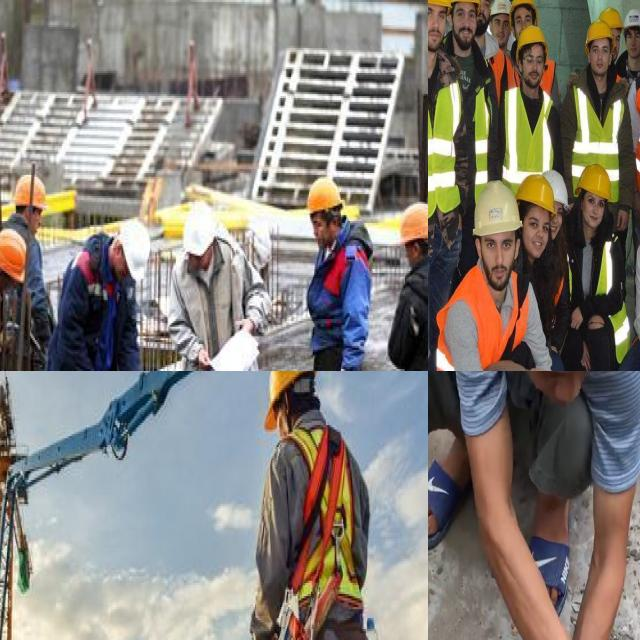Sandals: (428, 442, 468, 552)
face_nomask: (479, 232, 511, 282), (520, 206, 550, 258), (584, 40, 609, 83), (577, 190, 601, 233), (520, 48, 542, 91), (428, 7, 448, 54), (453, 3, 476, 43), (489, 13, 512, 41), (623, 27, 640, 59), (512, 12, 535, 34)
hand_noglove: (195, 348, 217, 371), (570, 305, 584, 339), (530, 360, 556, 371)
head_helmet: (263, 371, 315, 429), (473, 182, 522, 235), (118, 217, 152, 283), (184, 200, 218, 254), (517, 174, 558, 214), (0, 228, 31, 280), (302, 175, 343, 213), (397, 201, 428, 244), (578, 163, 613, 199), (12, 175, 48, 209), (514, 27, 549, 52), (545, 171, 571, 203), (584, 22, 614, 45), (598, 8, 621, 28), (622, 7, 640, 26), (511, 0, 535, 14), (490, 0, 511, 14)
person: (243, 371, 401, 640), (429, 181, 559, 371), (168, 194, 259, 371), (298, 172, 374, 371), (59, 215, 146, 371), (0, 163, 59, 371), (569, 165, 622, 371), (570, 18, 628, 188), (428, 0, 454, 371), (502, 29, 566, 170), (519, 166, 572, 326), (0, 230, 27, 371), (452, 0, 481, 107), (482, 0, 514, 74)
vest: (265, 427, 378, 640), (428, 288, 526, 371), (566, 234, 626, 344), (428, 52, 464, 214), (501, 96, 554, 182), (575, 91, 620, 165), (470, 85, 508, 165)
